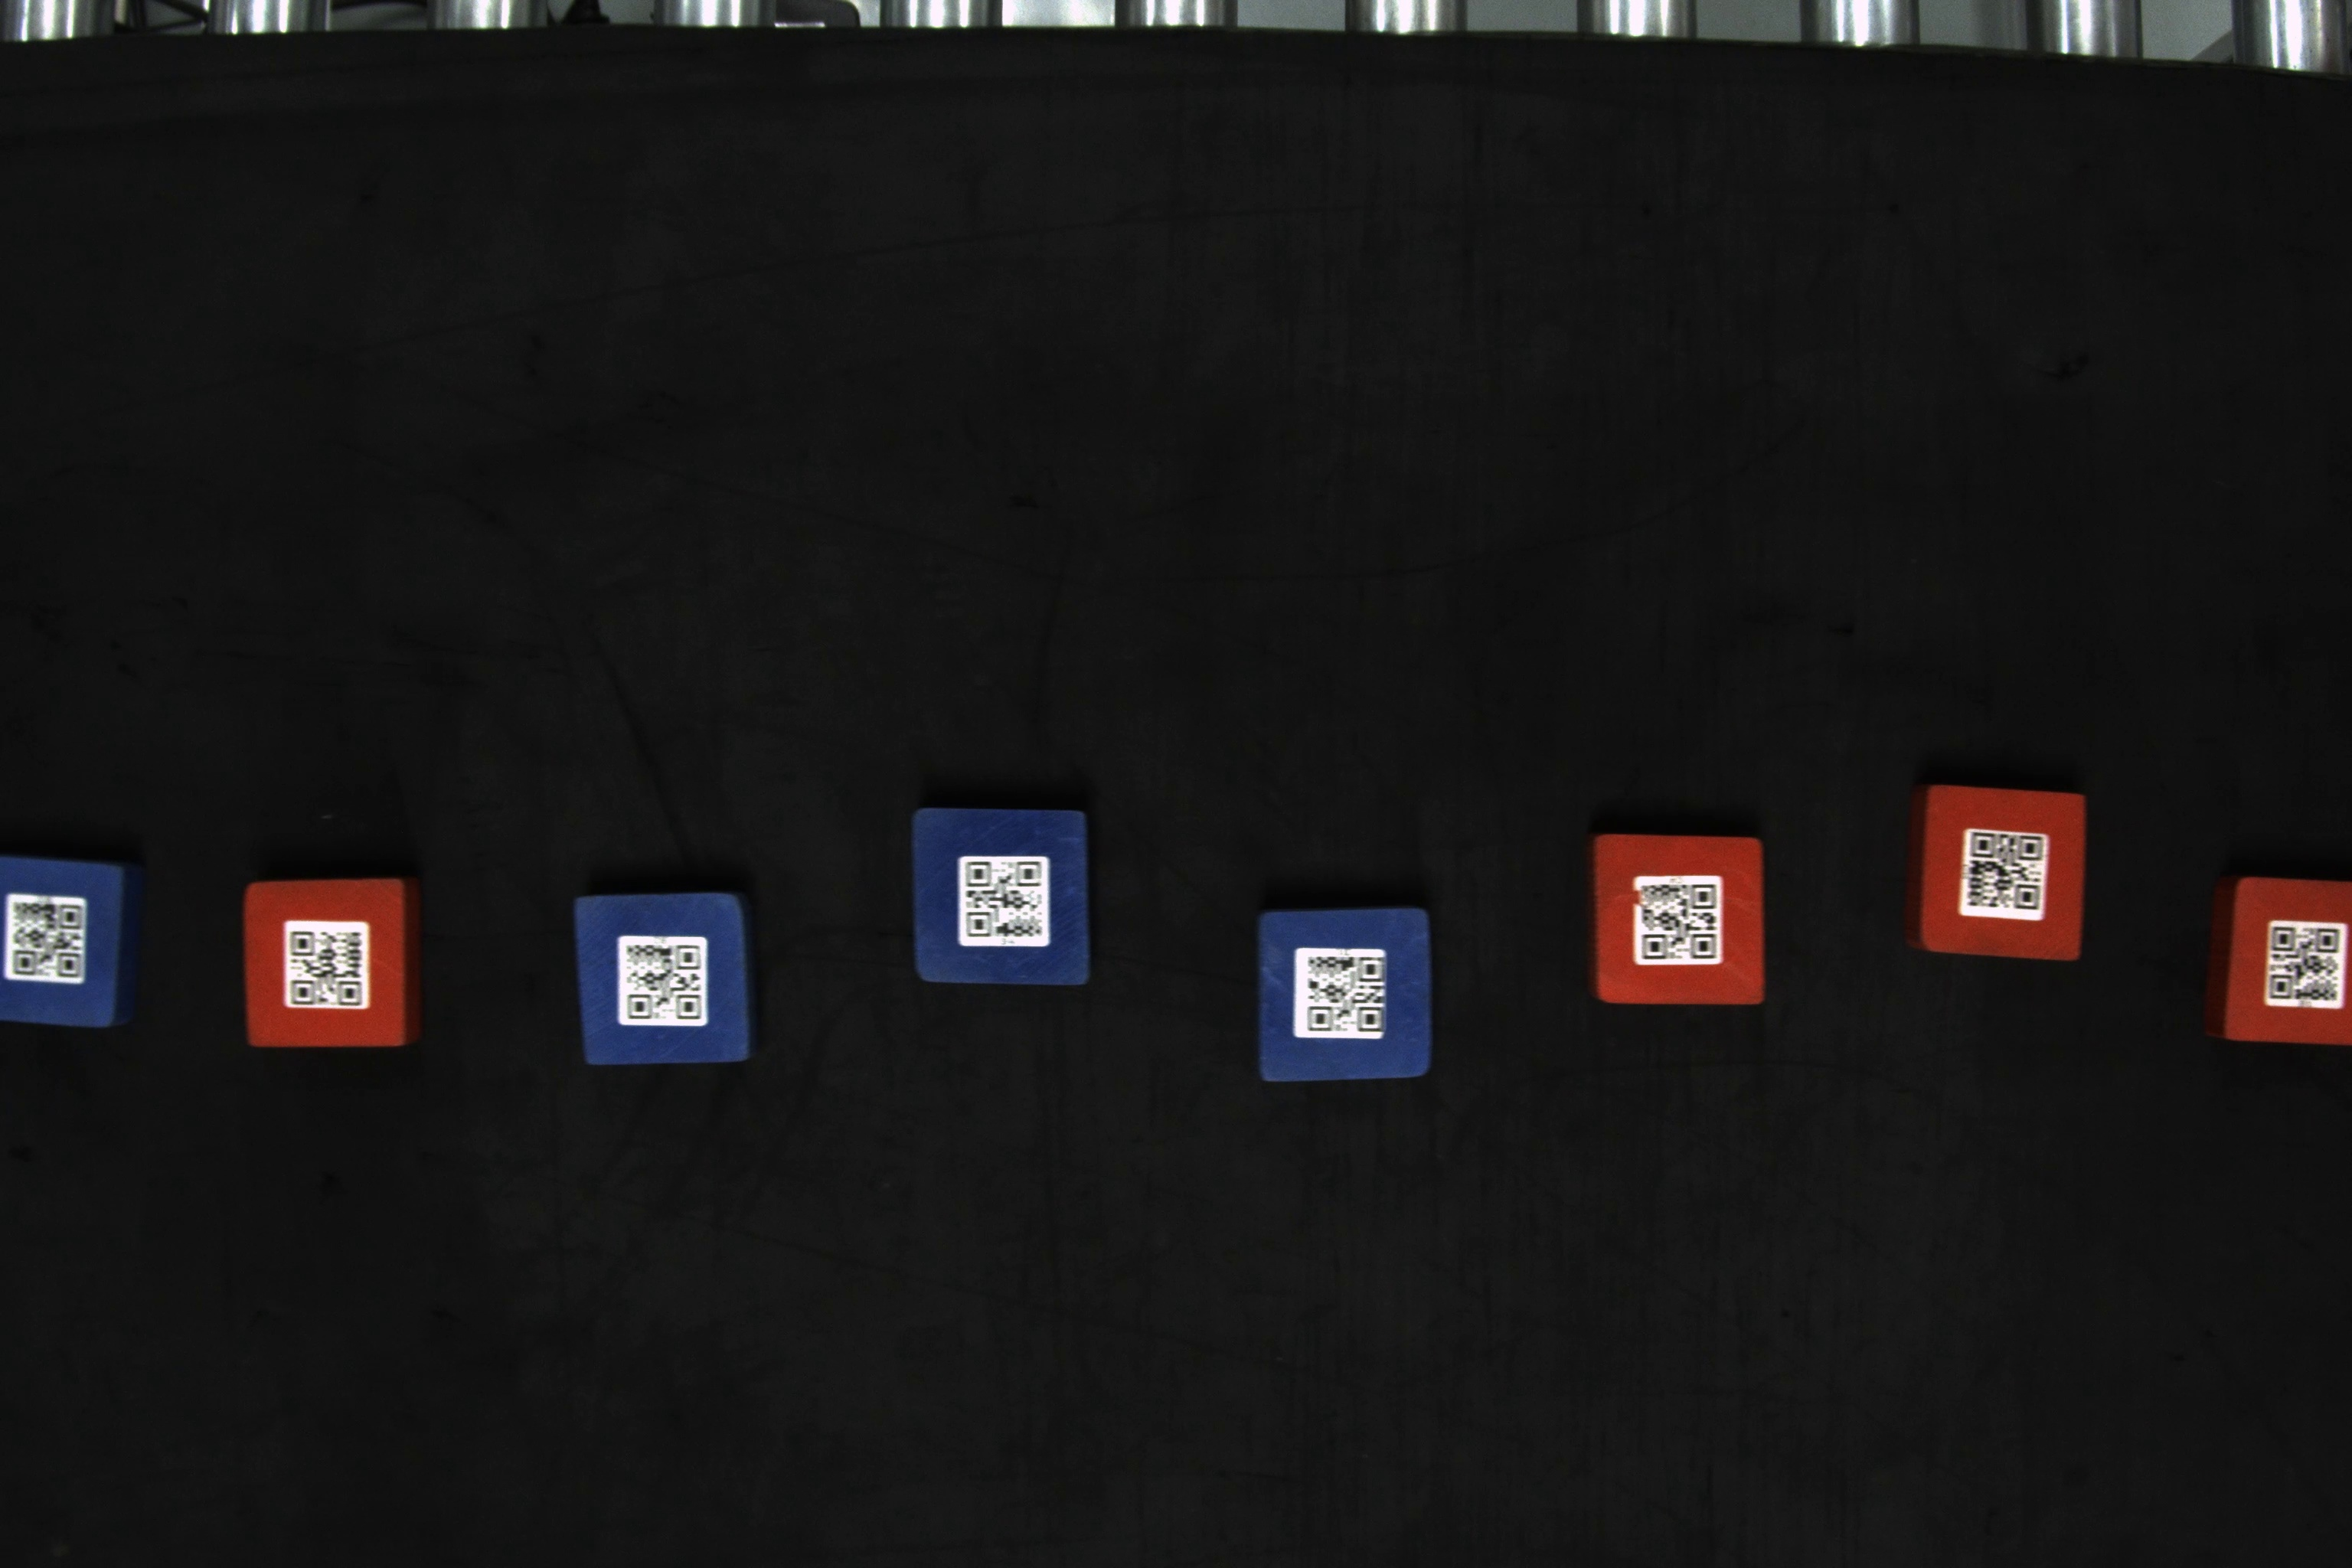wood: (898, 801, 1102, 990), (570, 889, 766, 1066), (1911, 777, 2096, 962), (1584, 826, 1773, 1008), (1255, 903, 1440, 1085), (233, 873, 423, 1050), (2200, 864, 2347, 1046), (5, 859, 138, 1041)
